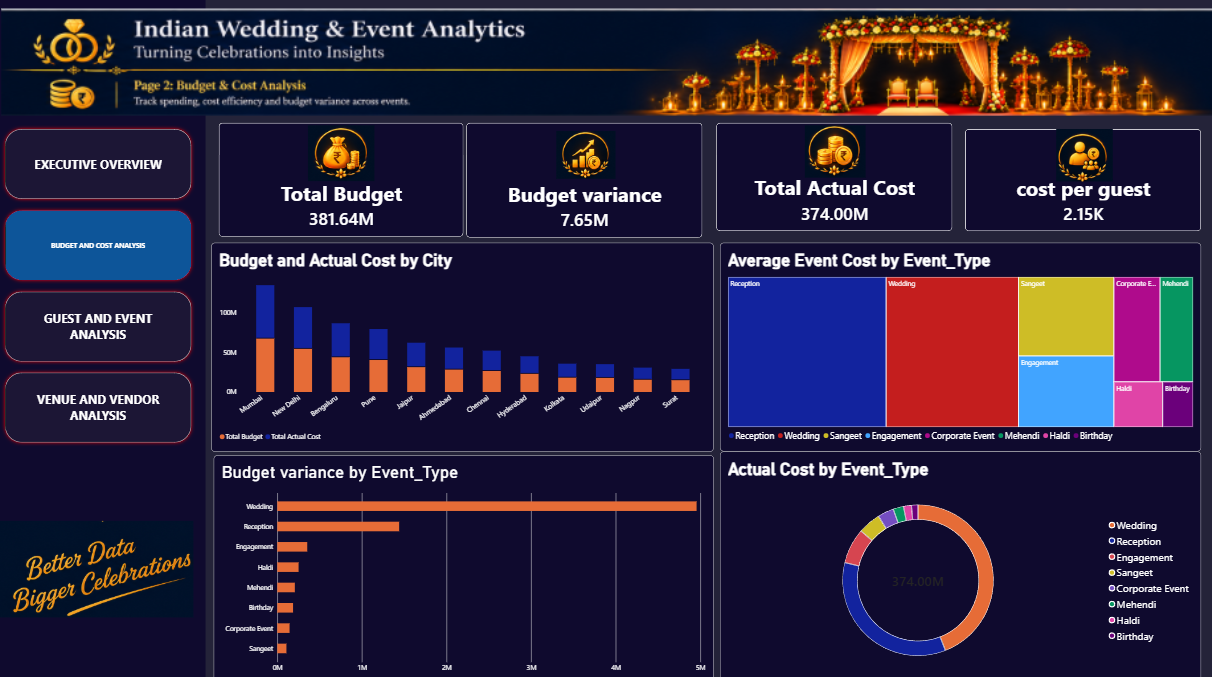

This screenshot's page, from the dashboard's own definition file:
{"tool":"powerbi","page":{"name":"BUDGET AND COST ANALYSIS","canvas":[2560,1440],"ordinal":1},"visuals":[{"type":"textbox","box":[0,0,432.5,1440],"z":0},{"type":"cardVisual","fields":{"Data":["Events.Total Budget"]},"box":[460,260,515,240],"z":1000},{"type":"cardVisual","fields":{"Data":["Events.Total Actual Cost"]},"box":[1507.5,260,497.5,227.5],"z":2000},{"type":"cardVisual","fields":{"Data":["Events.Budget variance"]},"box":[982.5,260,497.5,242.5],"z":3000},{"type":"columnChart","title":"Budget and  Actual Cost by City","fields":{"Category":["Dim_City.City"],"Y":["Events.Total Budget","Events.Total Actual Cost"]},"box":[445,512.5,1057.5,440],"z":4000},{"type":"barChart","fields":{"Category":["Dim_Event.Event_Type"],"Y":["Events.Budget variance"]},"box":[450,960,1004.2,408.3],"z":5000},{"type":"treemap","fields":{"Group":["Dim_Event.Event_Type"],"Values":["Events.Average Event Cost"]},"box":[1515,500,980,432],"z":6000},{"type":"donutChart","title":"Actual Cost by Event_Type","fields":{"Category":["Dim_Event.Event_Type"],"Y":["Events.Total Actual Cost"]},"box":[1584,1000,602.7,440.5],"z":7000},{"type":"cardVisual","fields":{"Data":["Events.cost per guest"]},"box":[2032.5,272.5,497.5,215],"z":8000},{"type":"pageNavigator","box":[2.5,265,408.1,678.4],"z":9000},{"type":"image","box":[0,1012.5,407.5,375],"z":11000},{"type":"image","box":[2.3,0,2556.8,265.9],"z":12000},{"type":"image","box":[640,265,157.5,117.5],"z":13000},{"type":"image","box":[1170,265,125,125],"z":14000},{"type":"image","box":[1690,265,137.5,110],"z":14001},{"type":"image","box":[2212.5,272.5,140,110],"z":14002}]}

Visuals, with their boxes on the page's 2560x1440 design canvas (x1, y1, x2, y2). These are canvas units, not pixel positions in the 1212x677 screenshot, which may show the page scaled, cropped or inside an application window:
textbox: bbox(0, 0, 432, 1440)
cardVisual - Events.Total Budget: bbox(460, 260, 975, 500)
cardVisual - Events.Total Actual Cost: bbox(1508, 260, 2005, 488)
cardVisual - Events.Budget variance: bbox(982, 260, 1480, 502)
"Budget and  Actual Cost by City" columnChart: bbox(445, 512, 1502, 952)
barChart - Dim_Event.Event_Type x Events.Budget variance: bbox(450, 960, 1454, 1368)
treemap - Dim_Event.Event_Type x Events.Average Event Cost: bbox(1515, 500, 2495, 932)
"Actual Cost by Event_Type" donutChart: bbox(1584, 1000, 2187, 1440)
cardVisual - Events.cost per guest: bbox(2032, 272, 2530, 488)
pageNavigator: bbox(2, 265, 411, 943)
image: bbox(0, 1012, 408, 1388)
image: bbox(2, 0, 2559, 266)
image: bbox(640, 265, 798, 382)
image: bbox(1170, 265, 1295, 390)
image: bbox(1690, 265, 1828, 375)
image: bbox(2212, 272, 2352, 382)
